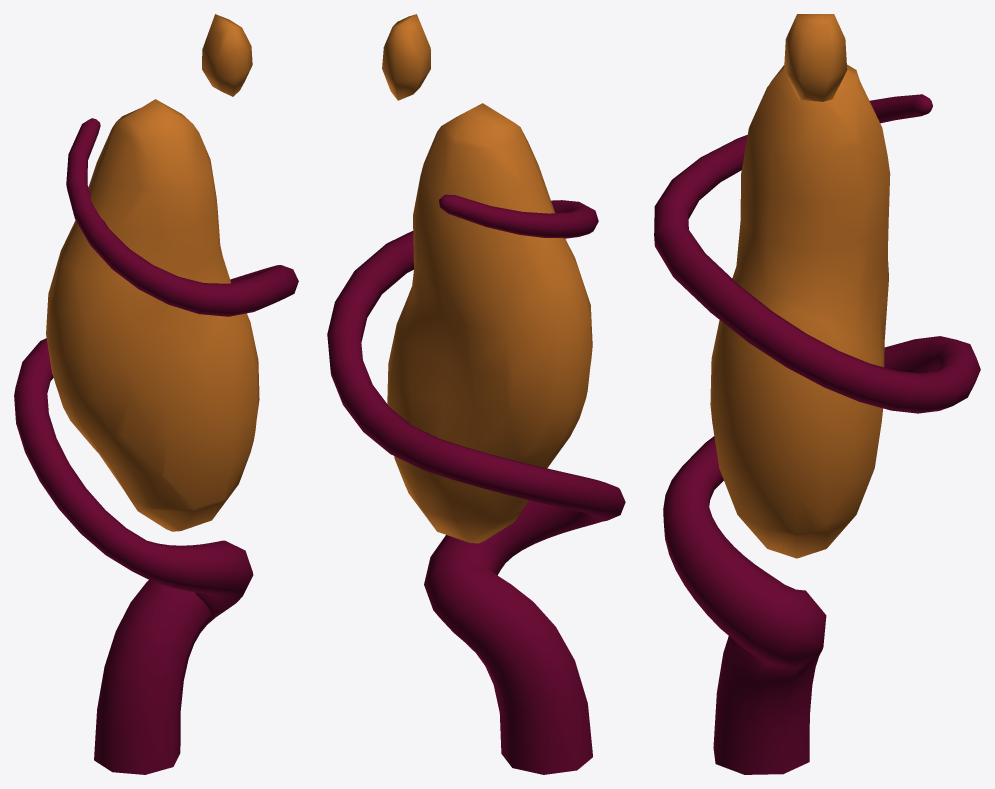
The model's file is tree-lava-1.glb.
The picture shows the model from 3 angles, left to right: view 1: azimuth 30°, elevation 25°; view 2: azimuth 150°, elevation 25°; view 3: azimuth 270°, elevation 25°; orthographic projection. The views are drawn at different scales.
Visible parts, largest first — view 1: Tree_Lava_1; view 2: Tree_Lava_1; view 3: Tree_Lava_1.
Boxes of the visible parts, x1=… form: Tree_Lava_1: x1=14, y1=14, x2=298, y2=774; Tree_Lava_1: x1=327, y1=14, x2=625, y2=774; Tree_Lava_1: x1=654, y1=14, x2=980, y2=774.
Size of the model in its own units: 1.2 by 3.24 by 1.2.
1 material, 1 textured.
